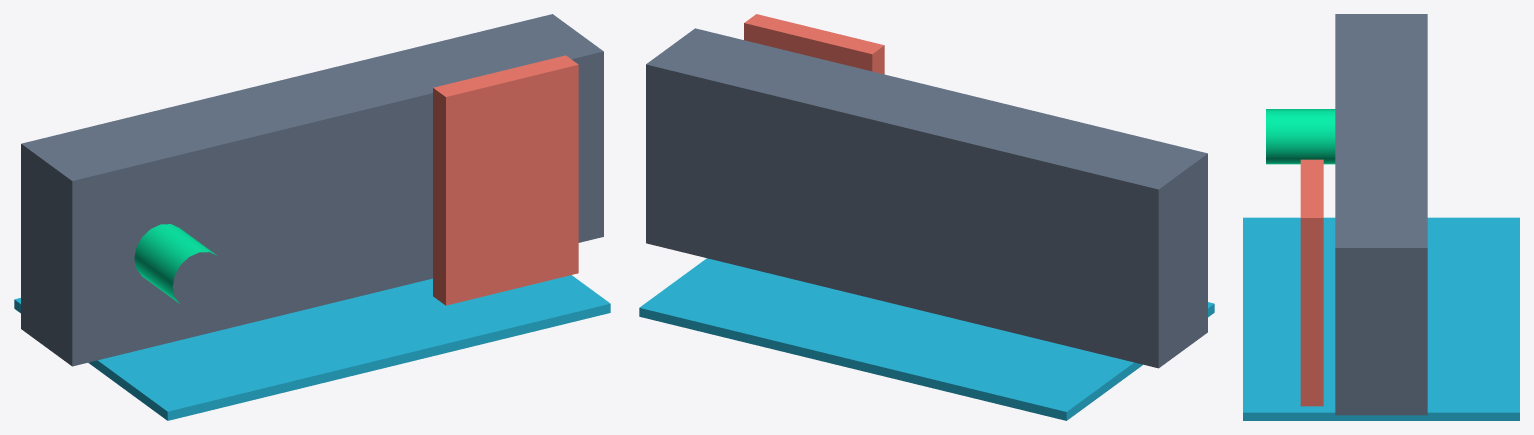
File: number_system_base_conversions.glb
The picture shows the model from 3 angles, left to right: view 1: azimuth 30°, elevation 25°; view 2: azimuth 150°, elevation 25°; view 3: azimuth 270°, elevation 25°; orthographic projection. The views are drawn at different scales.
Parts seen in each view (by area): view 1: DigitalRegisterBitCellMatrix, SevenSegmentHexadecimalLEDDisplay, BCDGrayCodeParityLogicBoard, BinaryOctalDecimalHexDecoders; view 2: DigitalRegisterBitCellMatrix, BCDGrayCodeParityLogicBoard, SevenSegmentHexadecimalLEDDisplay; view 3: DigitalRegisterBitCellMatrix, BCDGrayCodeParityLogicBoard, SevenSegmentHexadecimalLEDDisplay, BinaryOctalDecimalHexDecoders.
Boxes of the visible parts, x1,y1,x2,y2 form: DigitalRegisterBitCellMatrix: [21, 14, 603, 366]; SevenSegmentHexadecimalLEDDisplay: [433, 55, 578, 305]; BCDGrayCodeParityLogicBoard: [14, 275, 610, 420]; BinaryOctalDecimalHexDecoders: [134, 224, 216, 303]; DigitalRegisterBitCellMatrix: [646, 28, 1207, 368]; BCDGrayCodeParityLogicBoard: [639, 258, 1214, 420]; SevenSegmentHexadecimalLEDDisplay: [744, 14, 884, 74]; DigitalRegisterBitCellMatrix: [1335, 14, 1427, 415]; BCDGrayCodeParityLogicBoard: [1243, 217, 1519, 420]; SevenSegmentHexadecimalLEDDisplay: [1300, 159, 1323, 406]; BinaryOctalDecimalHexDecoders: [1266, 109, 1335, 164].
Size of the model in its own units: 1.2 by 0.485 by 0.6.
